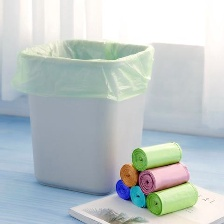plastic_bag: (144, 183, 203, 217), (138, 159, 192, 196), (128, 140, 183, 169), (116, 160, 143, 187), (128, 183, 147, 209), (111, 179, 134, 198)
